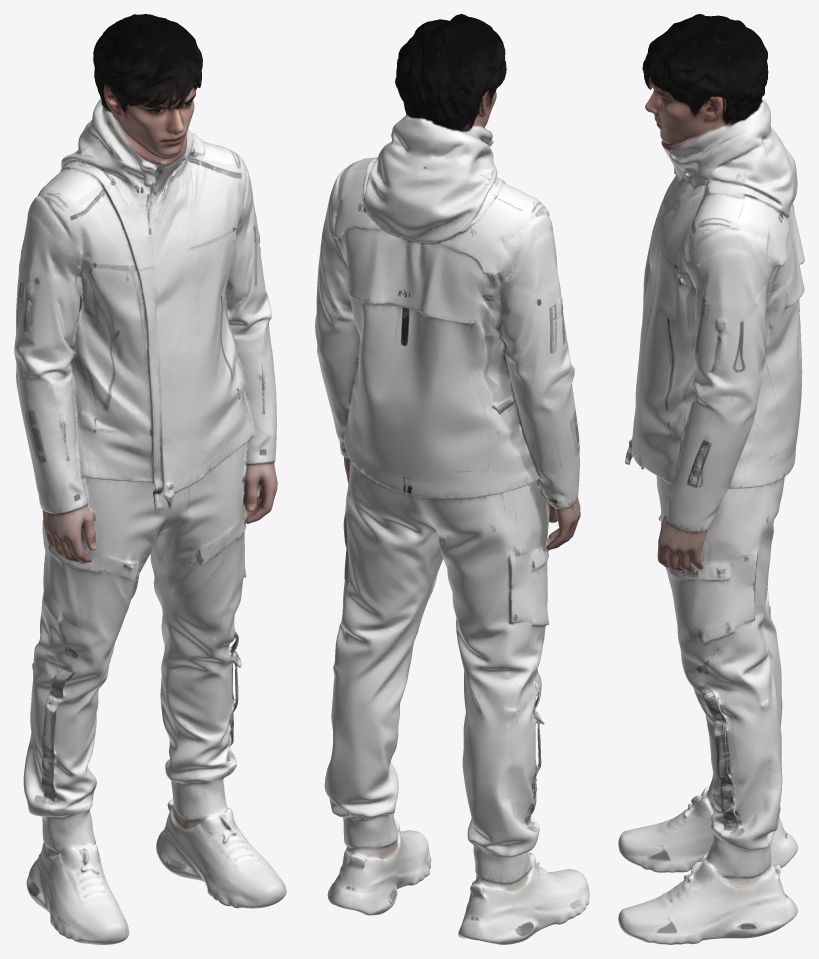
Rendered from POLAR-X.glb.
3 renders of one model, left to right at view 1: azimuth 30°, elevation 25°; view 2: azimuth 150°, elevation 25°; view 3: azimuth 270°, elevation 25°, orthographic.
Size of the model in its own units: 0.5523 by 1.9 by 0.3649.
Materials: 1 (1 with a texture image).
